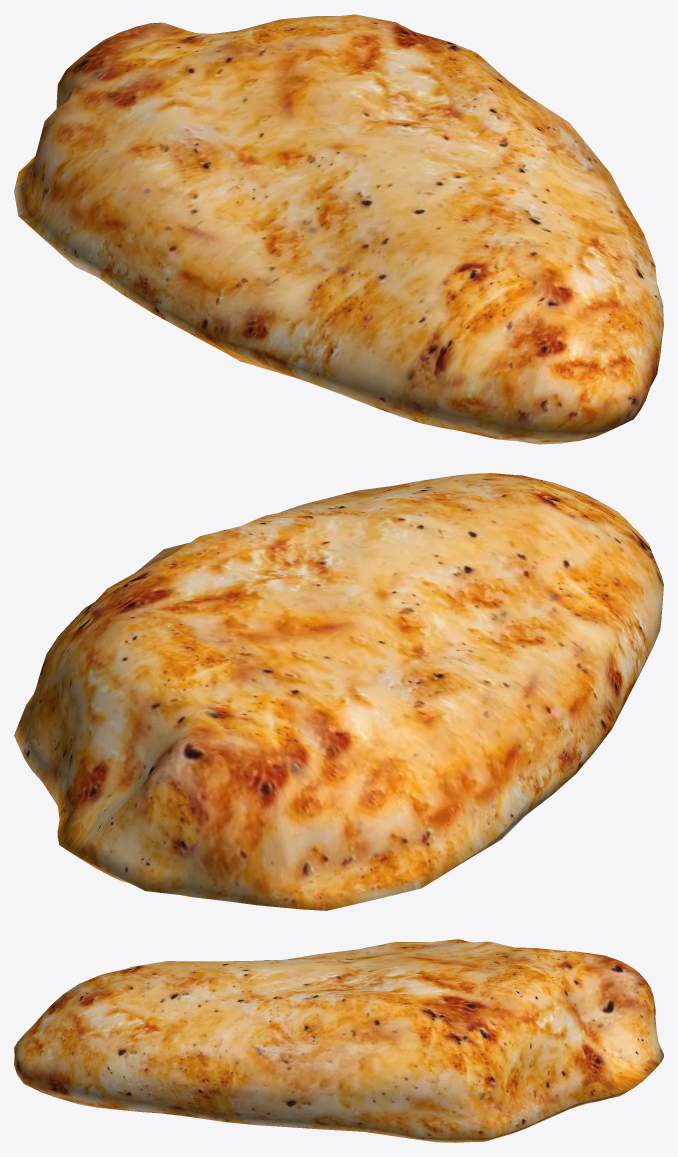
File: chicken.glb
3 renders of one model, top to bottom at view 1: azimuth 30°, elevation 25°; view 2: azimuth 150°, elevation 25°; view 3: azimuth 270°, elevation 25°, orthographic. The views are drawn at different scales.
Parts seen in each view (by area): view 1: Chiken_Fried.001_0; view 2: Chiken_Fried.001_0; view 3: Chiken_Fried.001_0.
Boxes of the visible parts, x1,y1,x2,y2 form: Chiken_Fried.001_0: (14,14,663,444); Chiken_Fried.001_0: (14,473,663,910); Chiken_Fried.001_0: (14,939,663,1142).
Size of the model in its own units: 0.7456 by 0.3171 by 1.29.
Materials: 1 (1 with a texture image).
